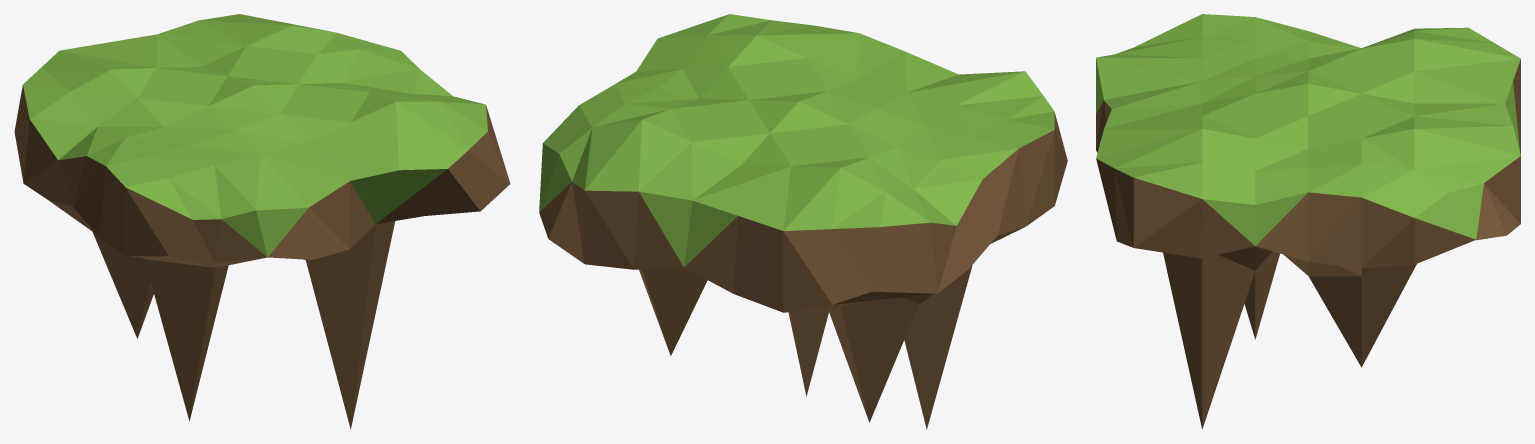
File: platform-cave.dae
3 views of the same model, side by side, from view 1: azimuth 30°, elevation 25°; view 2: azimuth 150°, elevation 25°; view 3: azimuth 270°, elevation 25° (orthographic). The views are drawn at different scales.
Parts seen in each view (by area): view 1: Cube; view 2: Cube; view 3: Cube.
Part boxes in pixels (<box>): Cube: <box>14,14,510,429</box>; Cube: <box>539,14,1067,429</box>; Cube: <box>1096,14,1520,429</box>.
Size of the model in its own units: 2.82 by 2.82 by 2.37.
